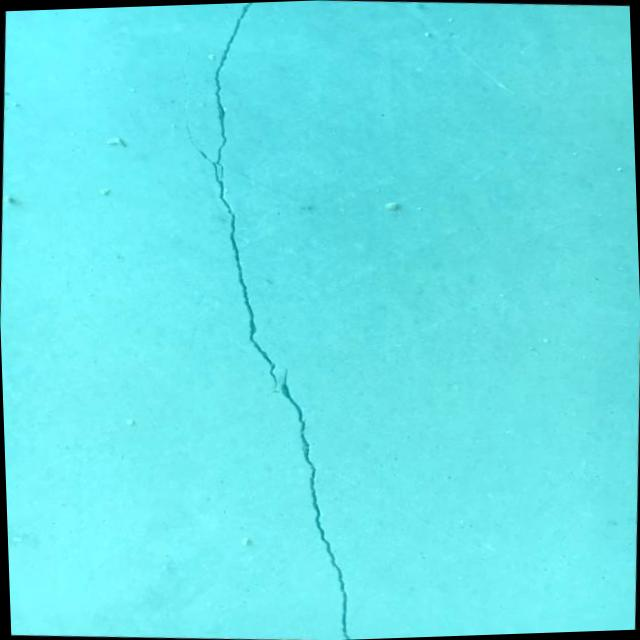crack: (166, 1, 298, 396), (265, 363, 364, 640)
